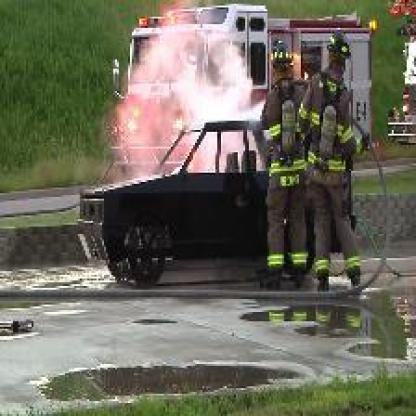smoke: (161, 37, 268, 165)
